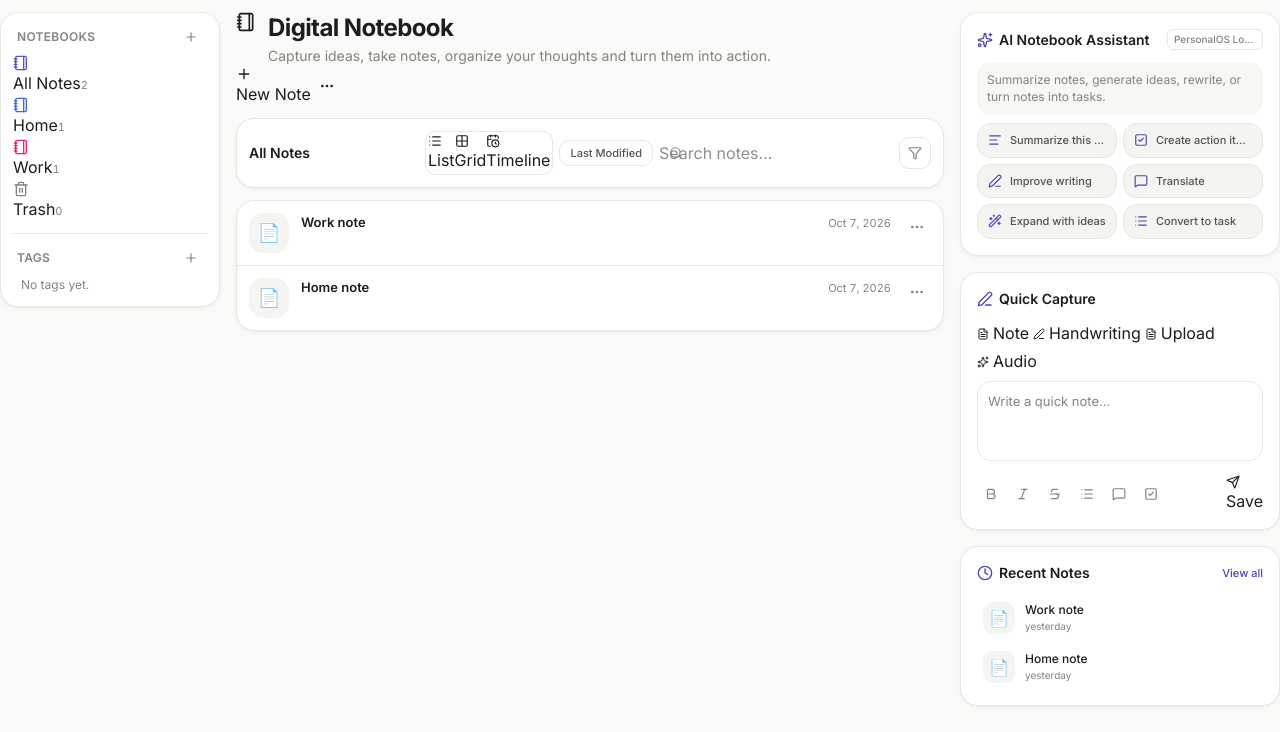
Scenario: every section renders › lists notebooks with counts and filters the list
The width and height of the screenshot is (1280, 732).
Expected: the 2nd text "1" is shown, [53, 162, 60, 176]
Step 1. Click the button with test id "notebook-collection-Home" → (39, 117), box [13, 97, 65, 137]
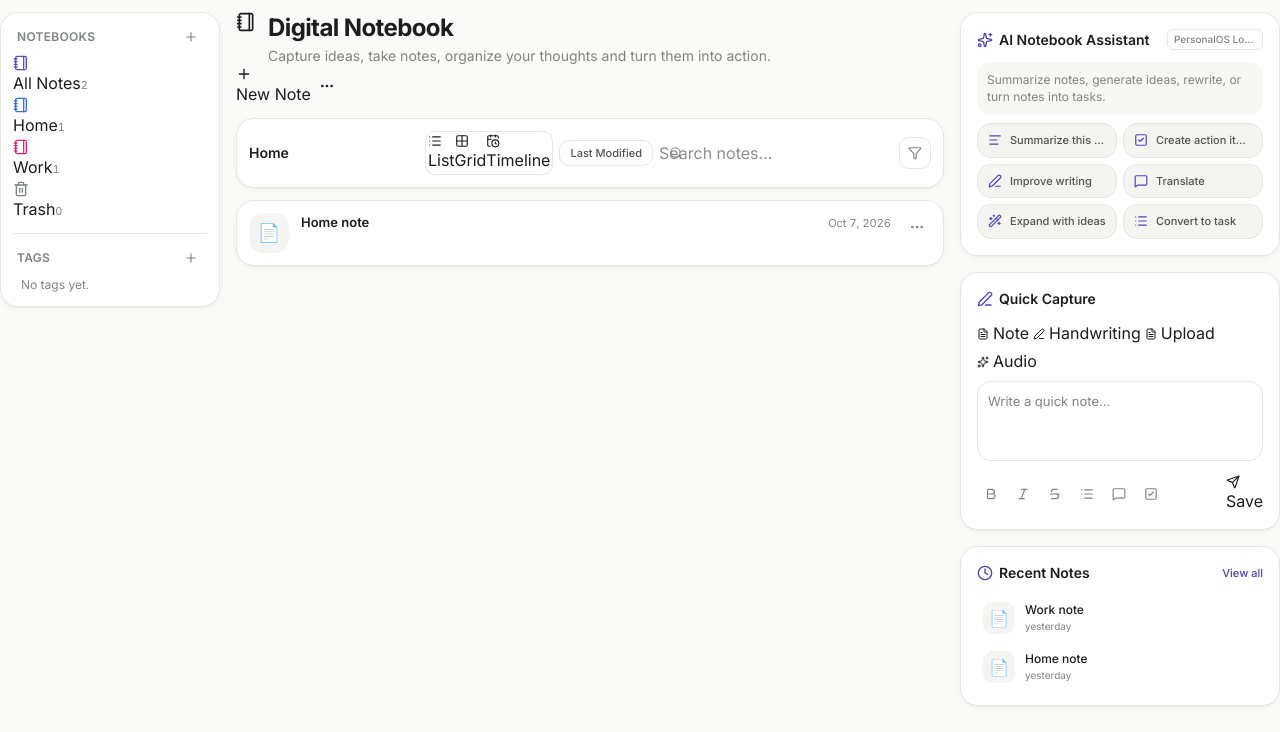
Expected: the text "Home note" below "Digital Notebook" is shown, [301, 214, 369, 230]
Expected: the number of list items with test id "notebook-note-row" is 1, [237, 201, 943, 265]
